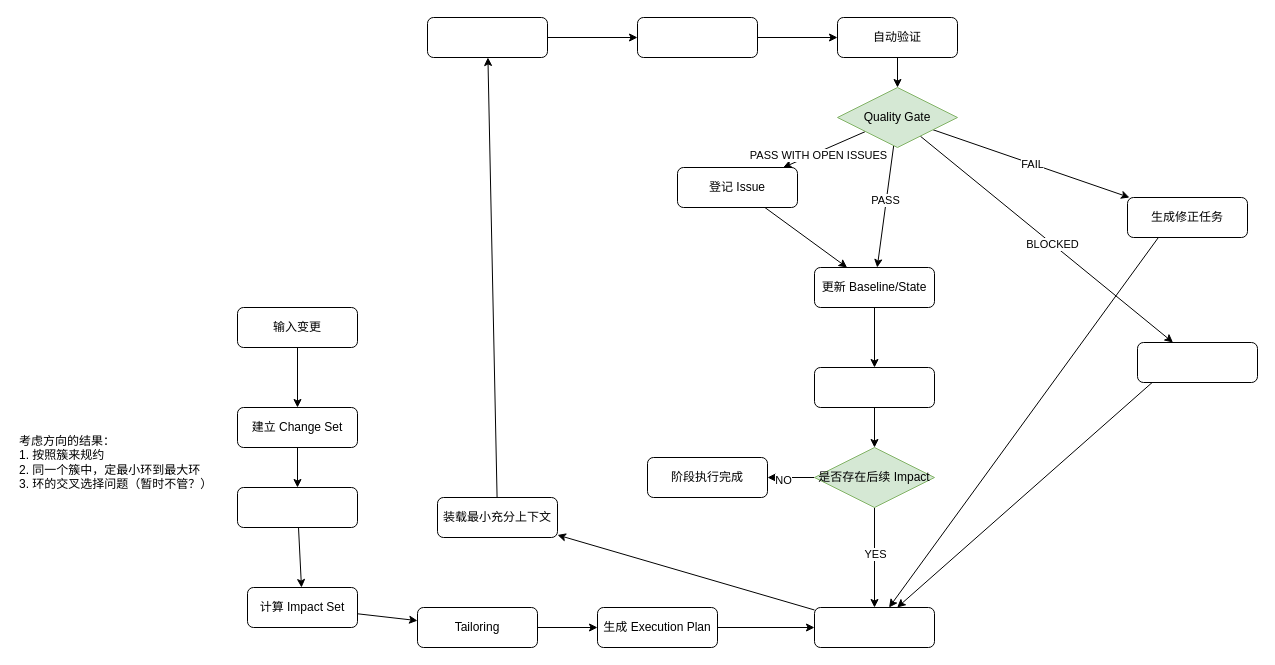
This 1275x665 diagram has some shape labels left out. The shapes that lost their labels are listed below. From the top down, each one's box as (x1, y1, x2, y2) in pixels, then its label:
(426, 16, 548, 58): 执行 Stage
(636, 16, 758, 58): 产生 Artifact
(1136, 342, 1258, 382): Decision/补充输入
(814, 366, 934, 408): 更新 Trace Graph
(236, 486, 358, 528): 读取 Trace Graph
(814, 606, 934, 648): 装载 Stage Contract
